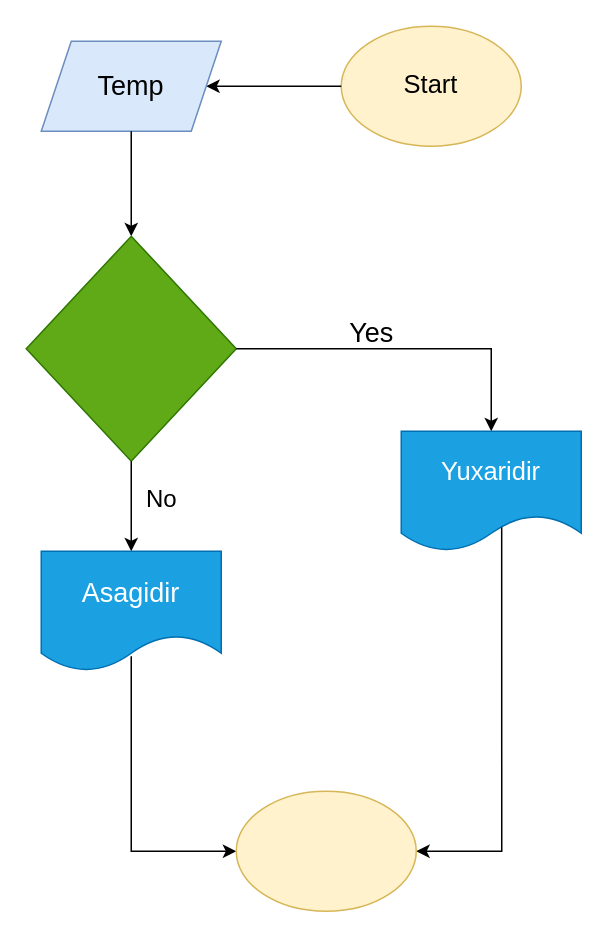
The diagram is 608 pixels wide and 938 high, and some of its shapes have lost their labels. The shapes that lost their labels are listed below. From the top down, each one's centre as x and y in pixels, then its label:
point 130,348: Temp > 0 && Temp != 0
point 325,850: End
